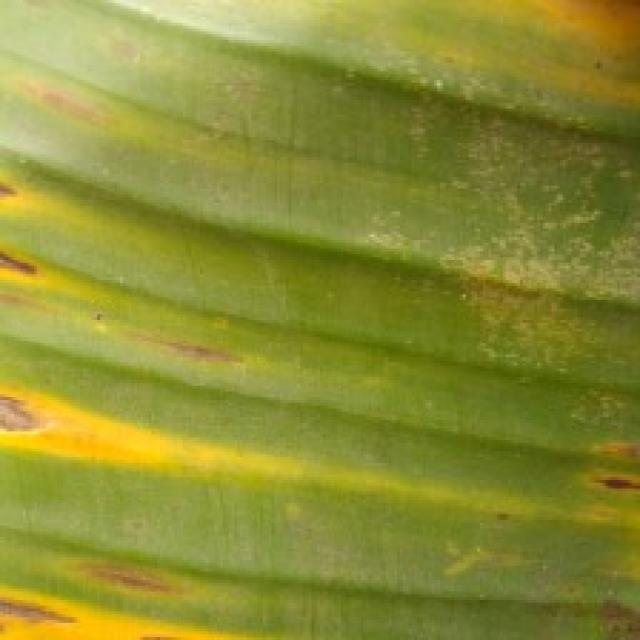Early_leaf_spot: (0, 534, 240, 637), (483, 0, 640, 129), (0, 366, 178, 474), (0, 142, 82, 301), (13, 56, 111, 134), (544, 438, 640, 516), (141, 319, 257, 369), (78, 23, 150, 73)
